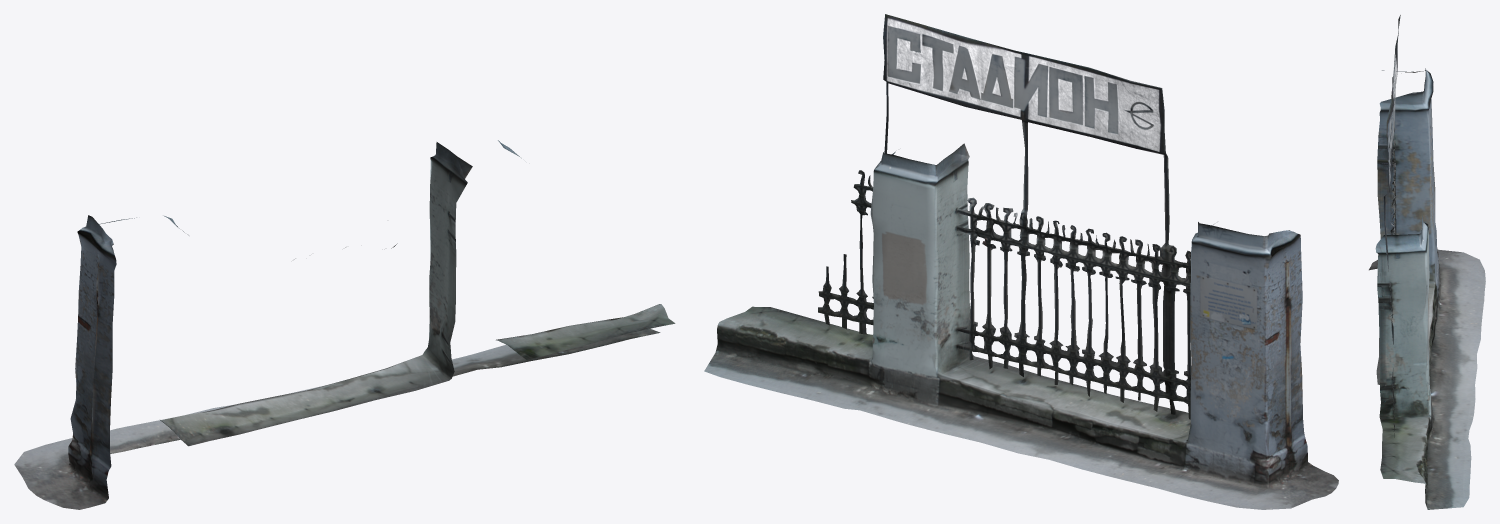
Rendered from SM_PitchEntranceSign.glb.
The picture shows the model from 3 angles, left to right: view 1: azimuth 30°, elevation 25°; view 2: azimuth 150°, elevation 25°; view 3: azimuth 270°, elevation 25°; orthographic projection. The views are drawn at different scales.
Visible parts, largest first — view 1: SM_PitchEntranceSign; view 2: SM_PitchEntranceSign; view 3: SM_PitchEntranceSign.
Boxes of the visible parts, bbox=[...] form: SM_PitchEntranceSign: bbox=[14, 140, 675, 509]; SM_PitchEntranceSign: bbox=[704, 14, 1338, 509]; SM_PitchEntranceSign: bbox=[1369, 15, 1485, 509].
Bounding box in the file's own units: 4.5 × 2.56 × 0.8751.
Materials: 1 (1 with a texture image).
